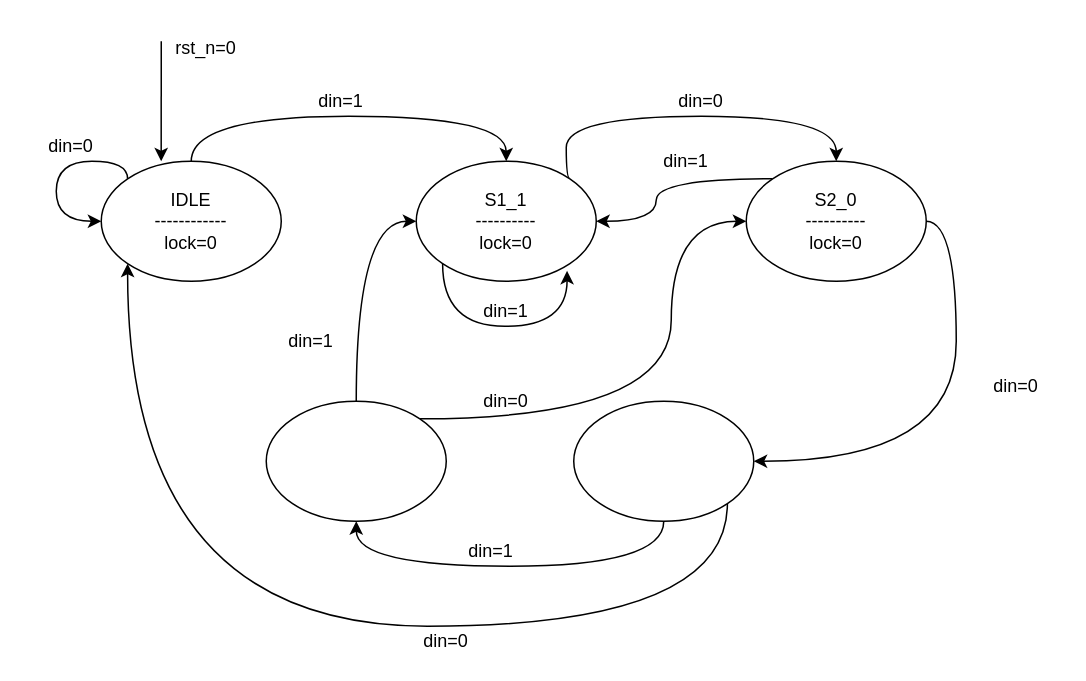
This 1086x681 diagram has some shape labels left out. The shapes that lost their labels are listed below. From the top down, each one's centre as x and y in pixels, then its label:
At (355,460): "S4_1 ---------- lock=1".
At (663,460): "S3_0 ---------- lock=0".
